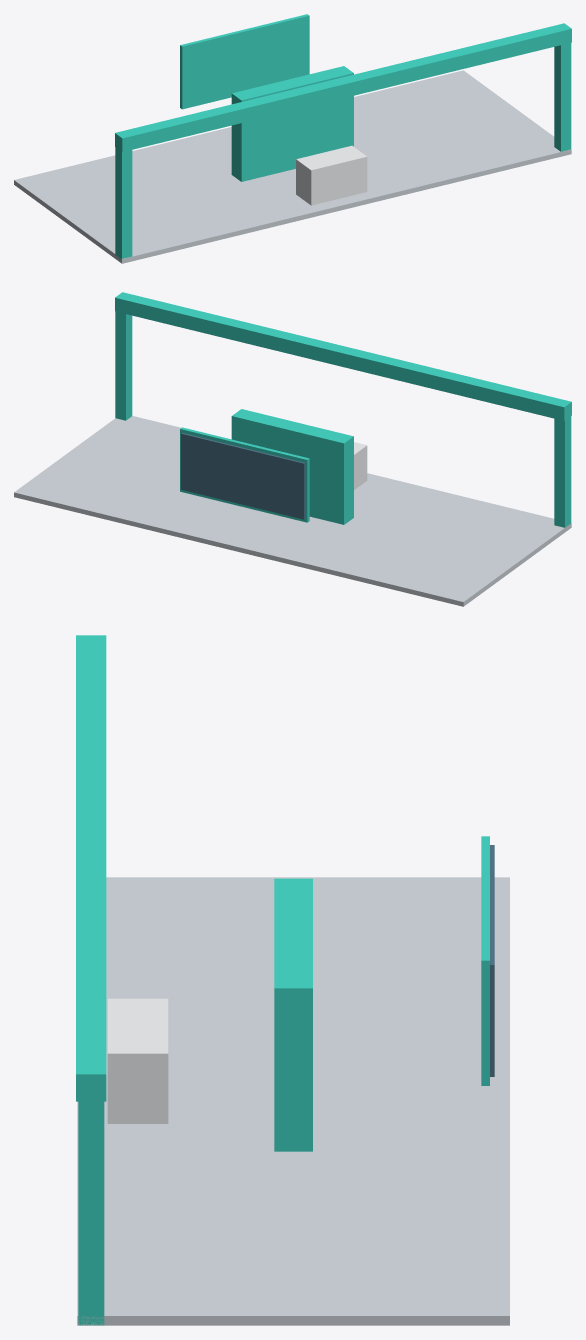
3 renders of one model, top to bottom at view 1: azimuth 30°, elevation 25°; view 2: azimuth 150°, elevation 25°; view 3: azimuth 270°, elevation 25°, orthographic. The views are drawn at different scales.
Visible parts, largest first — view 1: Exhibition Booth Concept; view 2: Exhibition Booth Concept; view 3: Exhibition Booth Concept.
Part boxes in pixels (x1,y1,x2,y2): Exhibition Booth Concept: (14, 14, 571, 263); Exhibition Booth Concept: (14, 292, 571, 606); Exhibition Booth Concept: (76, 635, 509, 1325).
Bounding box in the file's own units: 12 × 3.2 × 5.02.
